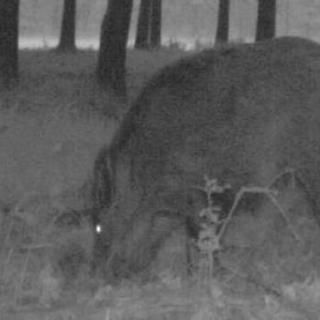Pig: (66, 31, 320, 296)
